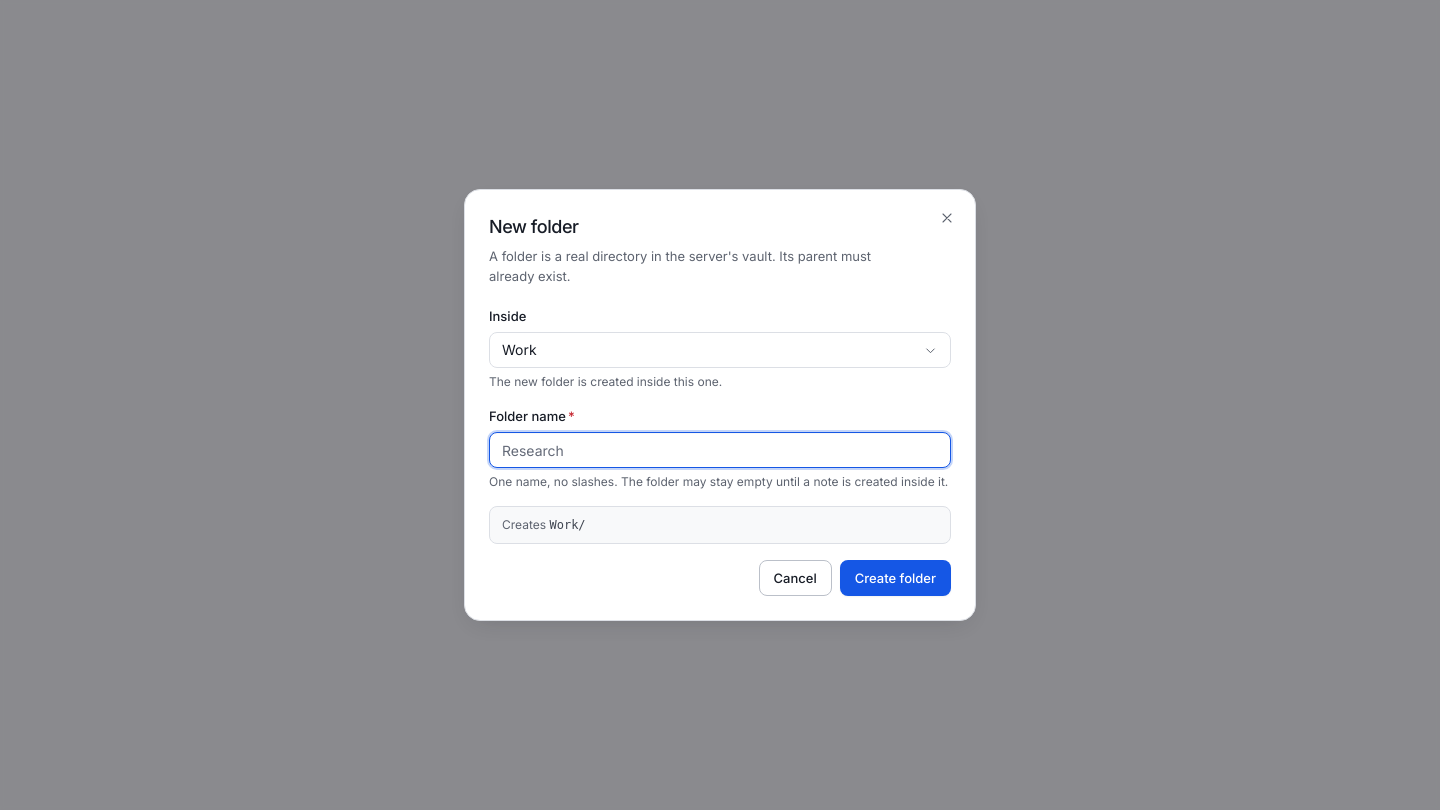
Test case: new folder dialog › refuses a name with a slash before sending anything
Type "a/b" into the field labelled "Folder name*" at {"x": 720, "y": 450}, box [489,432,951,468]
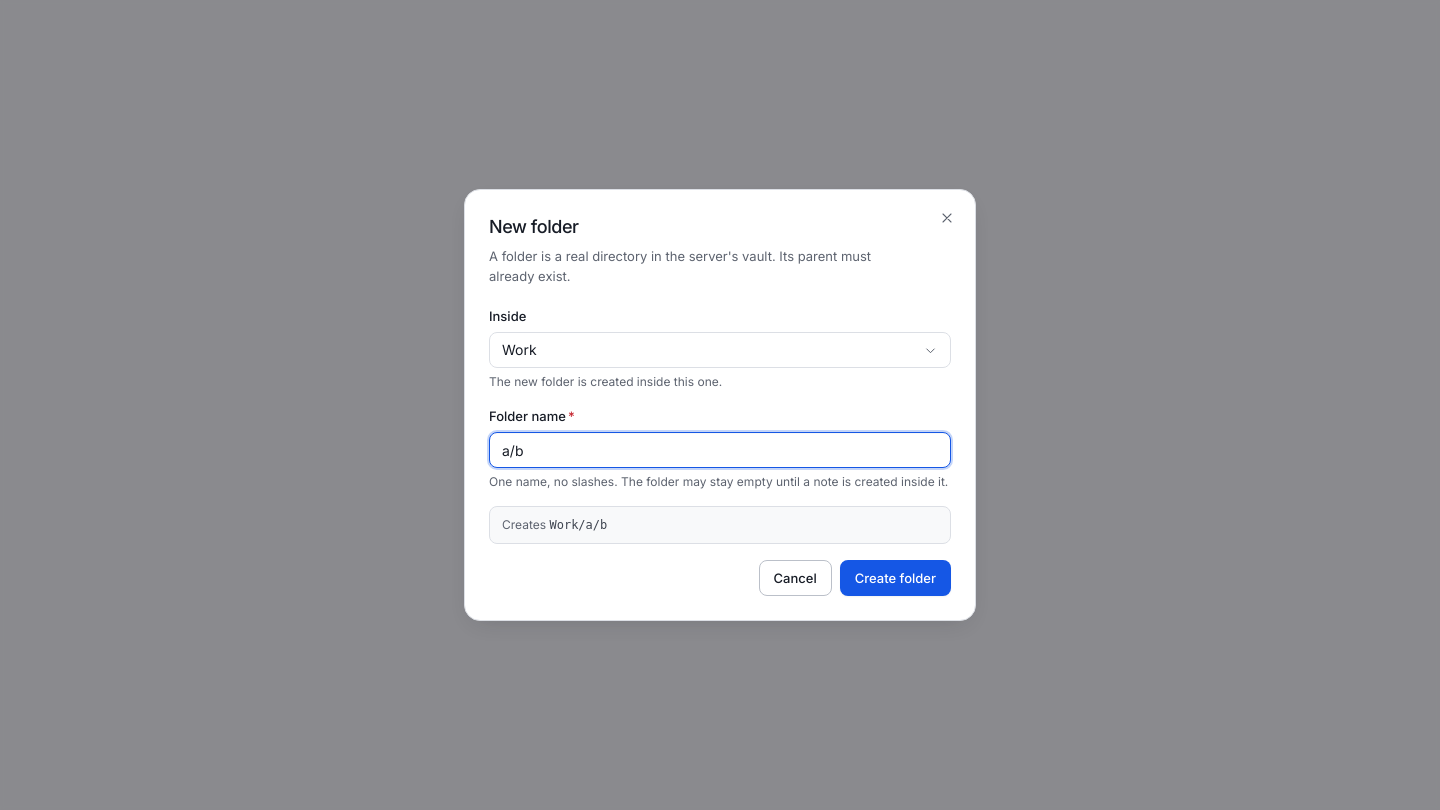
Click the button "Create folder" at {"x": 895, "y": 578}, box [840,560,951,596]
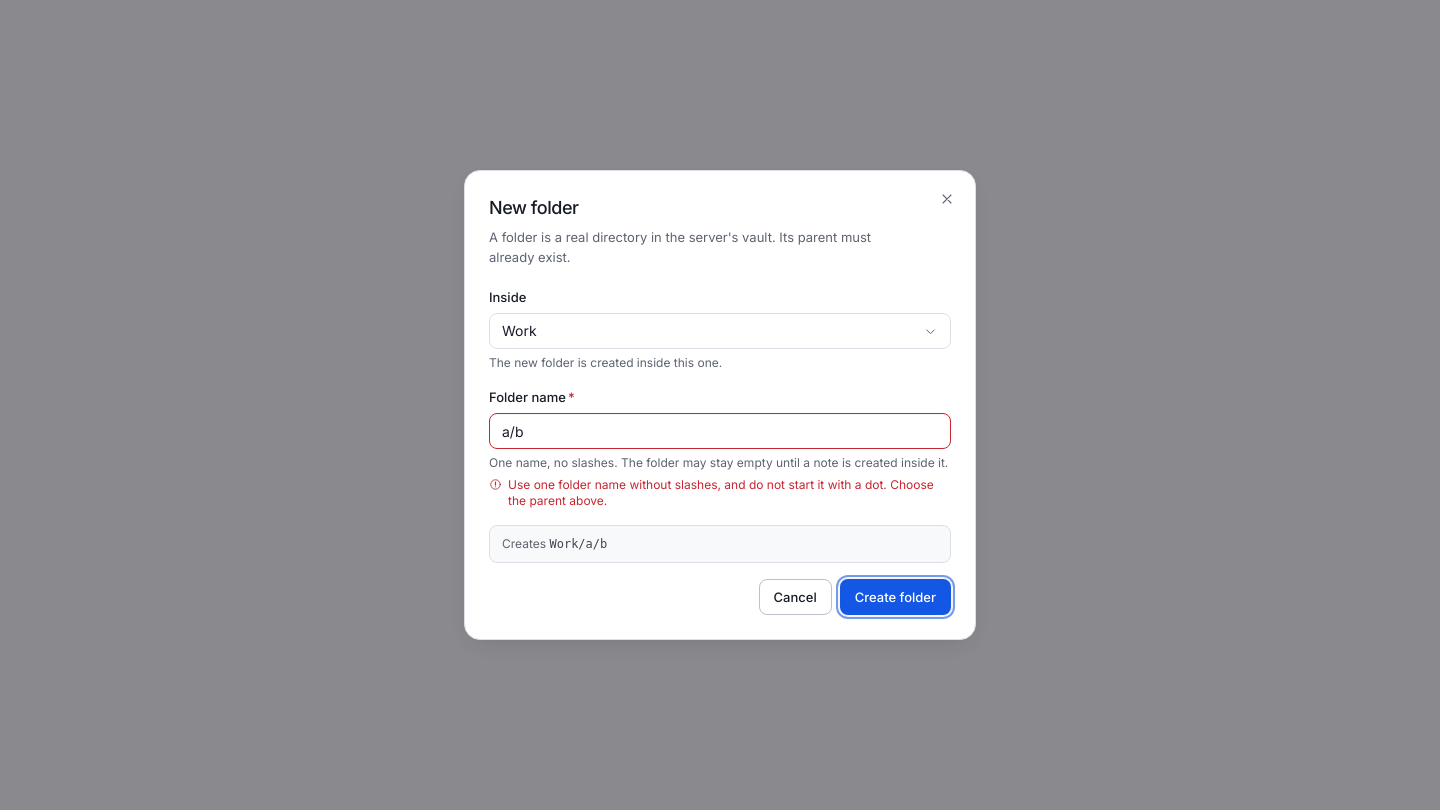
Result: the text "without slashes" is shown at [508,477,934,508]
